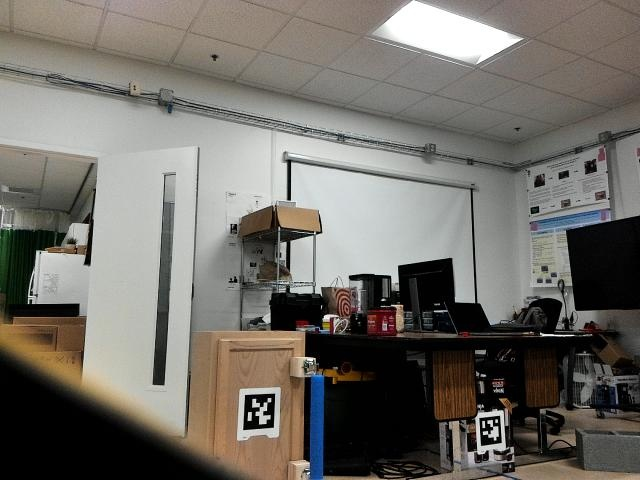noodle_handle: (304, 367, 334, 480)
